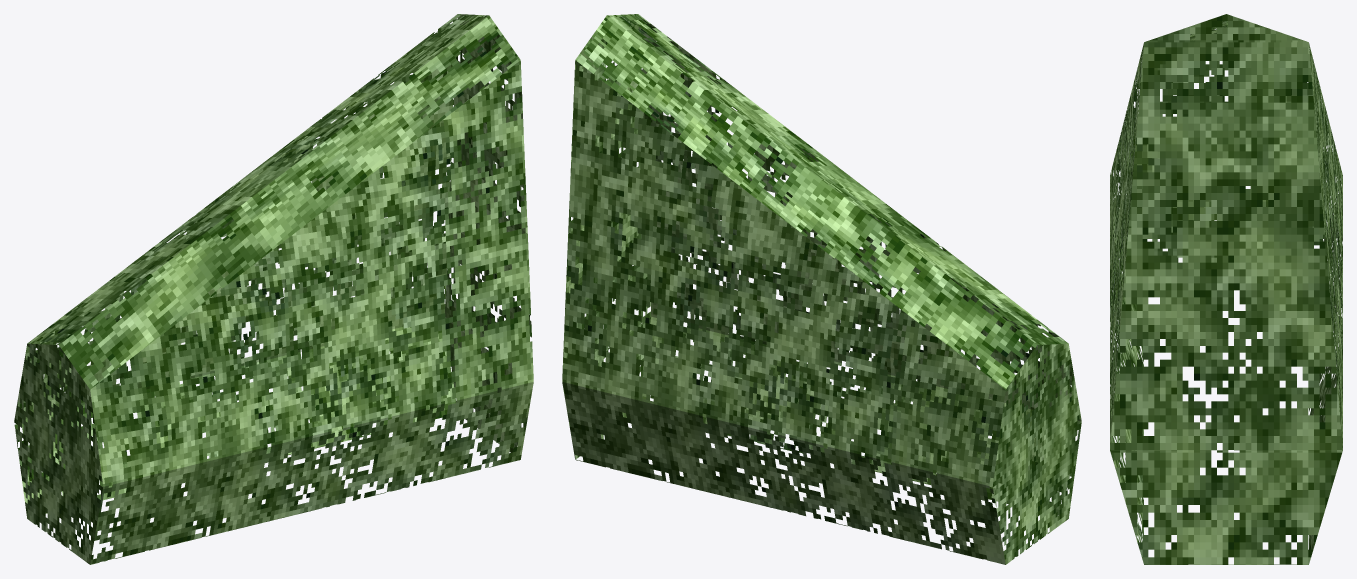
Rendered from bush_connector_straight_summer.glb.
The picture shows the model from 3 angles, left to right: view 1: azimuth 30°, elevation 25°; view 2: azimuth 150°, elevation 25°; view 3: azimuth 270°, elevation 25°; orthographic projection. The views are drawn at different scales.
Visible parts, largest first — view 1: bush_connector_straight_summer; view 2: bush_connector_straight_summer; view 3: bush_connector_straight_summer.
Boxes of the visible parts, x1=… form: bush_connector_straight_summer: x1=14, y1=14, x2=533, y2=564; bush_connector_straight_summer: x1=562, y1=14, x2=1081, y2=564; bush_connector_straight_summer: x1=1110, y1=14, x2=1342, y2=564.
Size of the model in its own units: 2.01 by 1.88 by 0.7191.
Materials: 1 (1 with a texture image).
